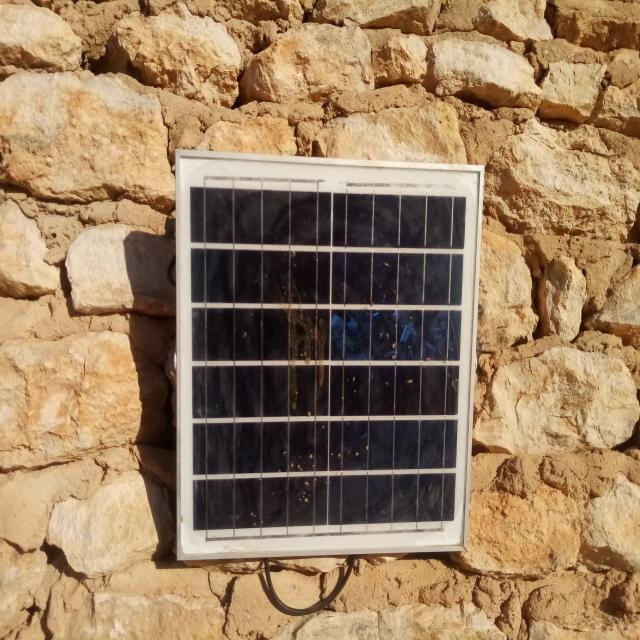faulty: (177, 156, 483, 558)
